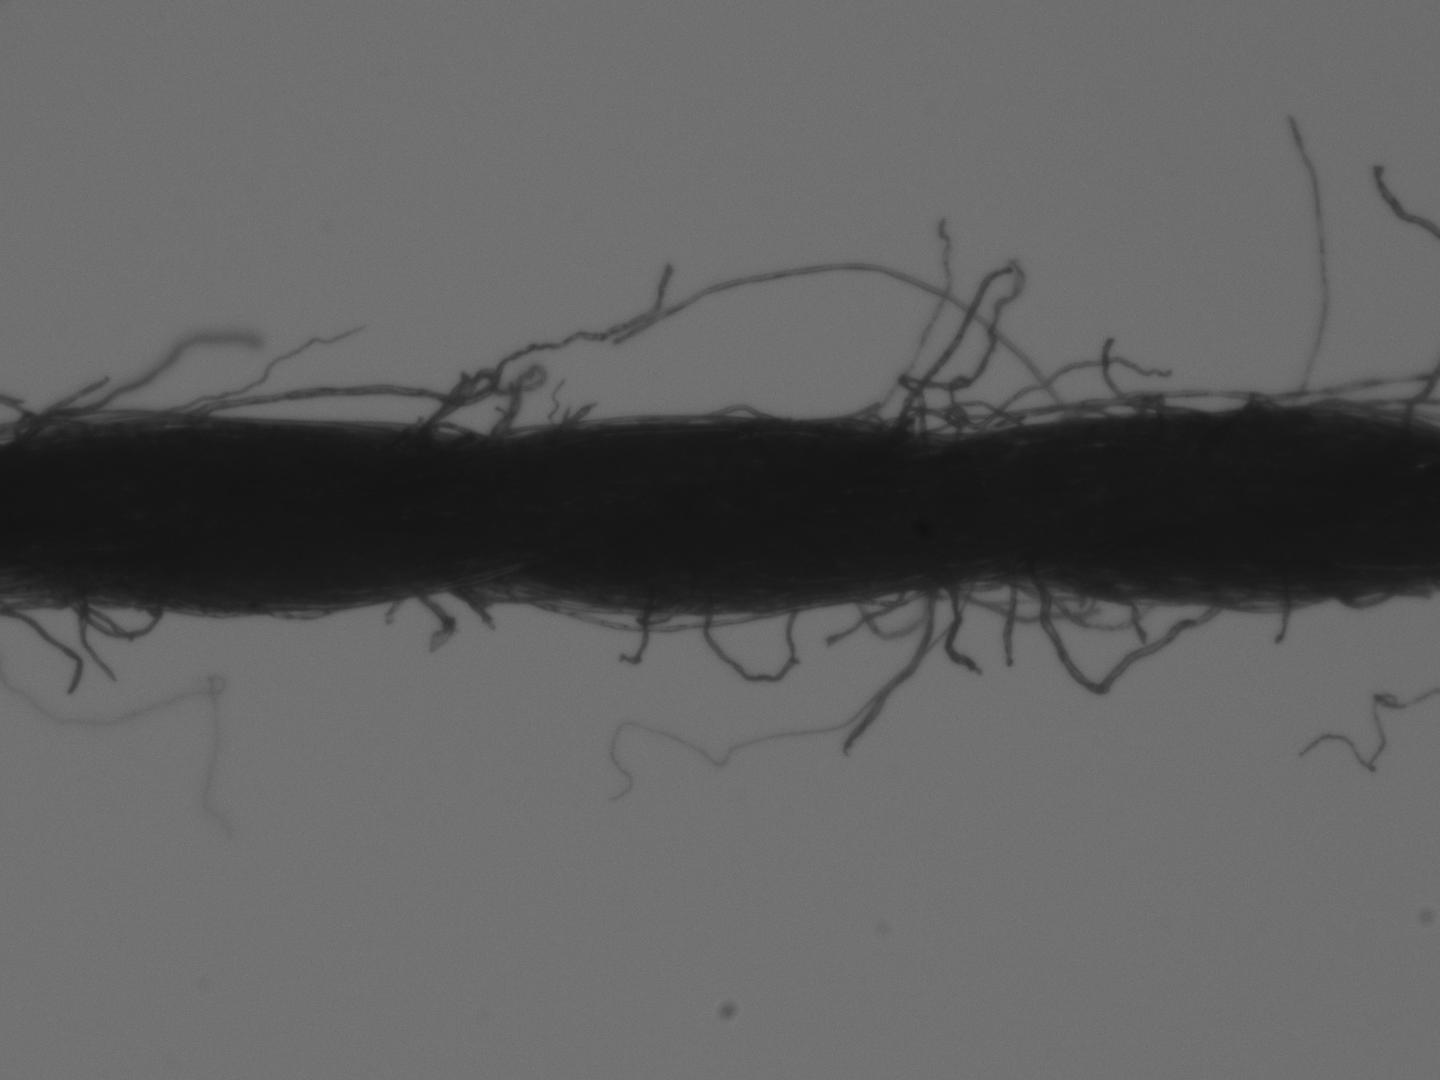loop_fiber: (186, 358, 557, 446), (1023, 565, 1230, 699), (899, 264, 1039, 445), (703, 393, 900, 441), (696, 597, 803, 685), (441, 579, 605, 630), (1067, 389, 1201, 436), (52, 592, 169, 643), (849, 580, 943, 642), (1331, 579, 1414, 613)
protruding_fiber: (836, 588, 948, 762), (1279, 106, 1331, 416)
